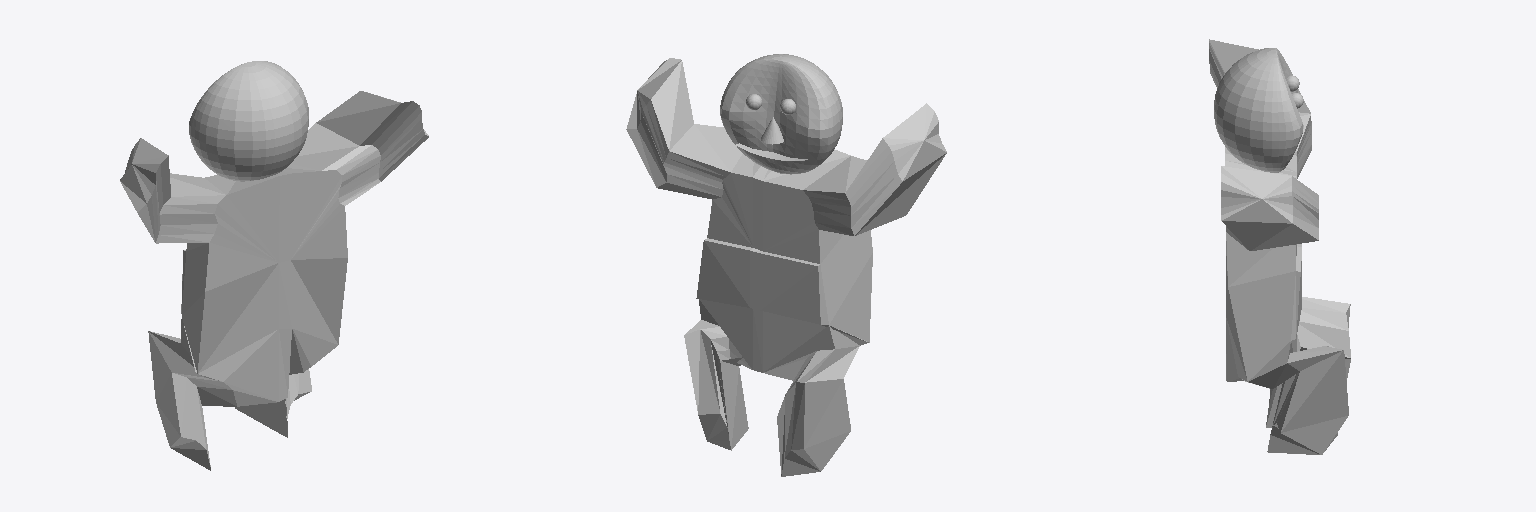
File: manjump_000007.obj
3 renders of one model, left to right at view 1: azimuth 30°, elevation 25°; view 2: azimuth 150°, elevation 25°; view 3: azimuth 270°, elevation 25°, orthographic.
Visible parts, largest first — view 1: Cube; view 2: Cube; view 3: Cube.
Part boxes in pixels (left/top/right/bottom): Cube: left=120, top=61, right=428, bottom=470; Cube: left=626, top=54, right=946, bottom=476; Cube: left=1209, top=39, right=1350, bottom=454.
Bounding box in the file's own units: 87.68 × 115 × 37.56.